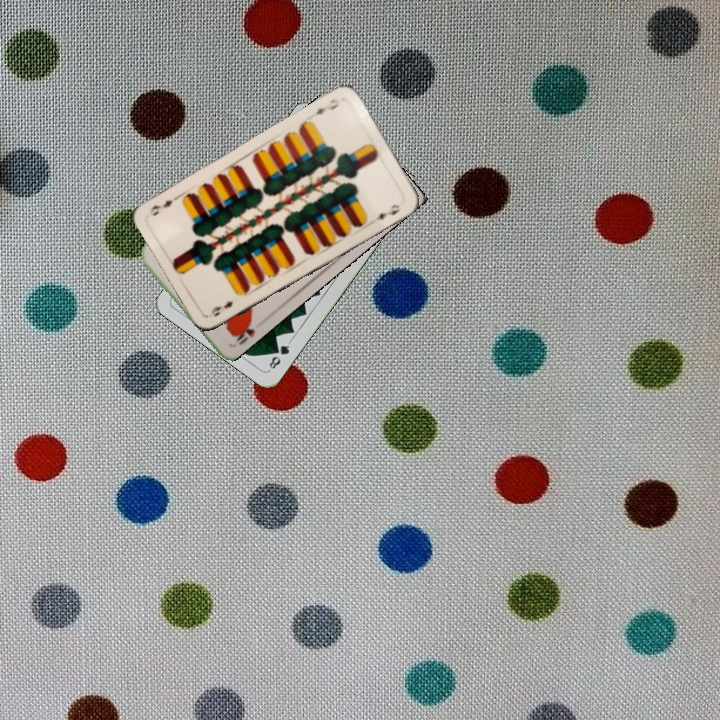E9: (207, 297, 236, 320), (312, 95, 341, 118)
G8: (265, 338, 293, 373)
HO: (228, 316, 257, 348)
